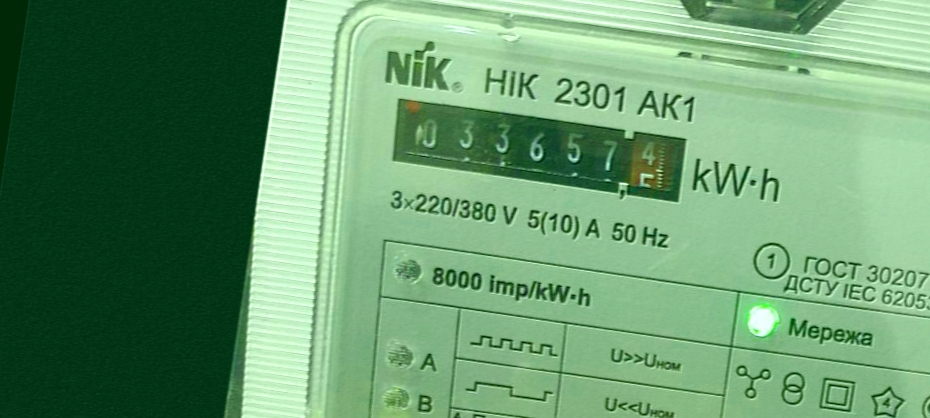0: (416, 115, 442, 155)
3: (455, 117, 479, 154), (490, 121, 513, 159)
4: (637, 138, 661, 171)
5: (560, 130, 587, 169)
6: (524, 129, 549, 167)
7: (596, 137, 619, 176)
screen: (375, 88, 697, 216)
